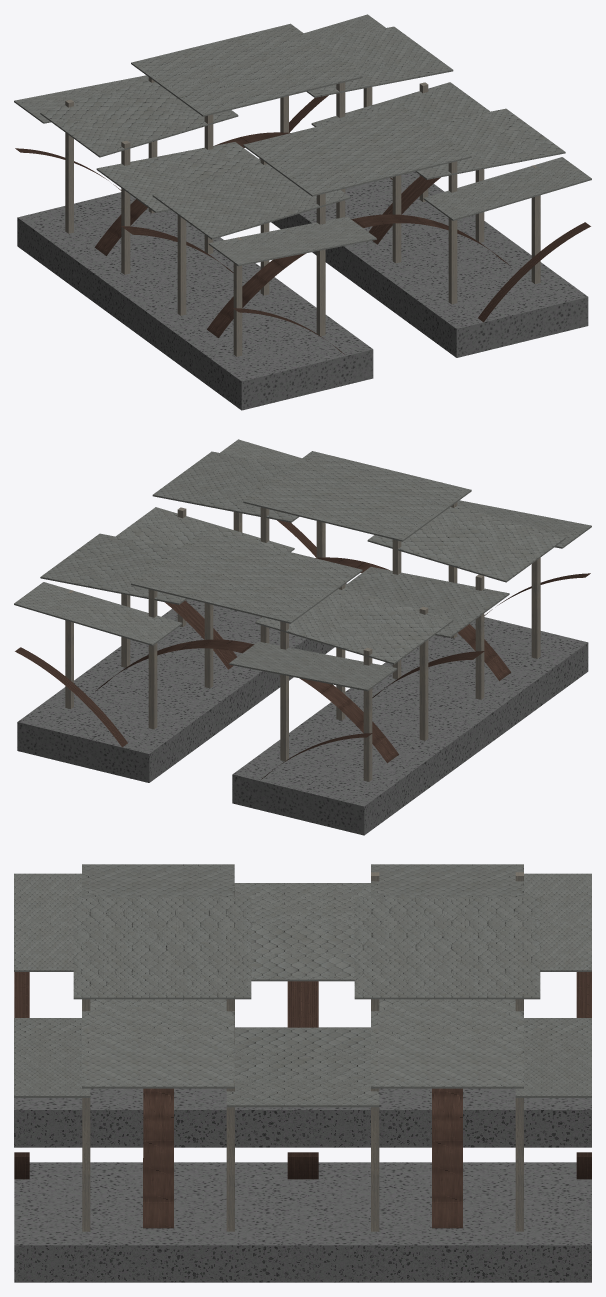
Rendered from Main.gltf.
3 renders of one model, top to bottom at view 1: azimuth 30°, elevation 25°; view 2: azimuth 150°, elevation 25°; view 3: azimuth 270°, elevation 25°, orthographic. The views are drawn at different scales.
Visible parts, largest first — view 1: site0_StaticMeshComponent0, site1_StaticMeshComponent0, roof72_StaticMeshComponent0, roof25_StaticMeshComponent0, roof17_StaticMeshComponent0, roof30_StaticMeshComponent0, roof16_StaticMeshComponent0, roof60_StaticMeshComponent0, roof42_StaticMeshComponent0, roof54_StaticMeshComponent0, roof8_StaticMeshComponent0, roof66_StaticMeshComponent0 (+27 smaller); view 2: site0_StaticMeshComponent0, site1_StaticMeshComponent0, roof72_StaticMeshComponent0, roof25_StaticMeshComponent0, roof16_StaticMeshComponent0, roof66_StaticMeshComponent0, roof30_StaticMeshComponent0, roof10_StaticMeshComponent0, roof36_StaticMeshComponent0, roof42_StaticMeshComponent0, roof17_StaticMeshComponent0, roof78_StaticMeshComponent0 (+26 smaller); view 3: site1_StaticMeshComponent0, site0_StaticMeshComponent0, roof72_StaticMeshComponent0, roof25_StaticMeshComponent0, roof60_StaticMeshComponent0, roof42_StaticMeshComponent0, roof17_StaticMeshComponent0, roof9_StaticMeshComponent0, roof13_StaticMeshComponent0, roof11_StaticMeshComponent0, roof36_StaticMeshComponent0, roof48_StaticMeshComponent0 (+24 smaller).
Boxes of the visible parts, left/top/right/bottom form: site0_StaticMeshComponent0: left=17, top=192, right=373, bottom=410; site1_StaticMeshComponent0: left=259, top=158, right=588, bottom=357; roof72_StaticMeshComponent0: left=132, top=24, right=361, bottom=114; roof25_StaticMeshComponent0: left=244, top=106, right=470, bottom=194; roof17_StaticMeshComponent0: left=131, top=24, right=362, bottom=116; roof30_StaticMeshComponent0: left=153, top=164, right=350, bottom=237; roof16_StaticMeshComponent0: left=40, top=81, right=237, bottom=156; roof60_StaticMeshComponent0: left=308, top=26, right=452, bottom=96; roof42_StaticMeshComponent0: left=417, top=109, right=564, bottom=178; roof54_StaticMeshComponent0: left=424, top=157, right=591, bottom=219; roof8_StaticMeshComponent0: left=209, top=216, right=376, bottom=264; roof66_StaticMeshComponent0: left=47, top=84, right=237, bottom=155; site0_StaticMeshComponent0: left=232, top=617, right=588, bottom=835; site1_StaticMeshComponent0: left=17, top=583, right=346, bottom=782; roof72_StaticMeshComponent0: left=131, top=531, right=362, bottom=622; roof25_StaticMeshComponent0: left=243, top=451, right=471, bottom=540; roof16_StaticMeshComponent0: left=255, top=588, right=453, bottom=663; roof66_StaticMeshComponent0: left=255, top=589, right=452, bottom=662; roof30_StaticMeshComponent0: left=373, top=509, right=564, bottom=580; roof10_StaticMeshComponent0: left=368, top=506, right=564, bottom=582; roof36_StaticMeshComponent0: left=345, top=567, right=508, bottom=636; roof42_StaticMeshComponent0: left=153, top=451, right=290, bottom=512; roof17_StaticMeshComponent0: left=132, top=531, right=361, bottom=623; roof78_StaticMeshComponent0: left=229, top=641, right=396, bottom=689; site1_StaticMeshComponent0: left=14, top=1162, right=591, bottom=1282; site0_StaticMeshComponent0: left=14, top=1027, right=591, bottom=1147; roof72_StaticMeshComponent0: left=354, top=897, right=540, bottom=997; roof25_StaticMeshComponent0: left=73, top=897, right=251, bottom=997; roof60_StaticMeshComponent0: left=371, top=999, right=523, bottom=1086; roof42_StaticMeshComponent0: left=82, top=999, right=234, bottom=1086; roof17_StaticMeshComponent0: left=354, top=897, right=540, bottom=999; roof9_StaticMeshComponent0: left=73, top=897, right=251, bottom=999; roof13_StaticMeshComponent0: left=226, top=1027, right=379, bottom=1107; roof11_StaticMeshComponent0: left=235, top=883, right=370, bottom=981; roof36_StaticMeshComponent0: left=234, top=883, right=370, bottom=979; roof48_StaticMeshComponent0: left=226, top=1027, right=379, bottom=1105.
Size of the model in its own units: 25.5 by 12.1 by 28.01.
Materials: 5 (4 with a texture image).
